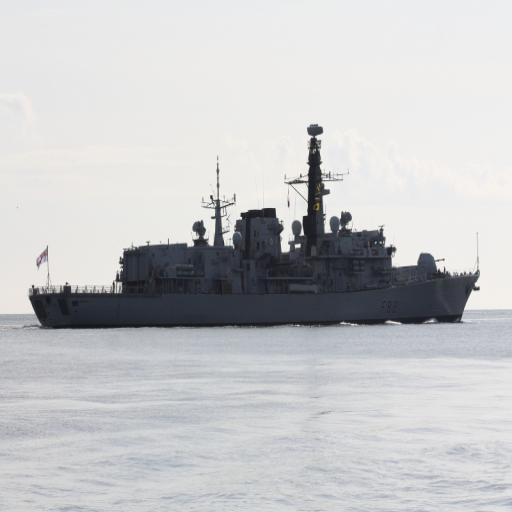Fragata: (26, 121, 480, 334)
